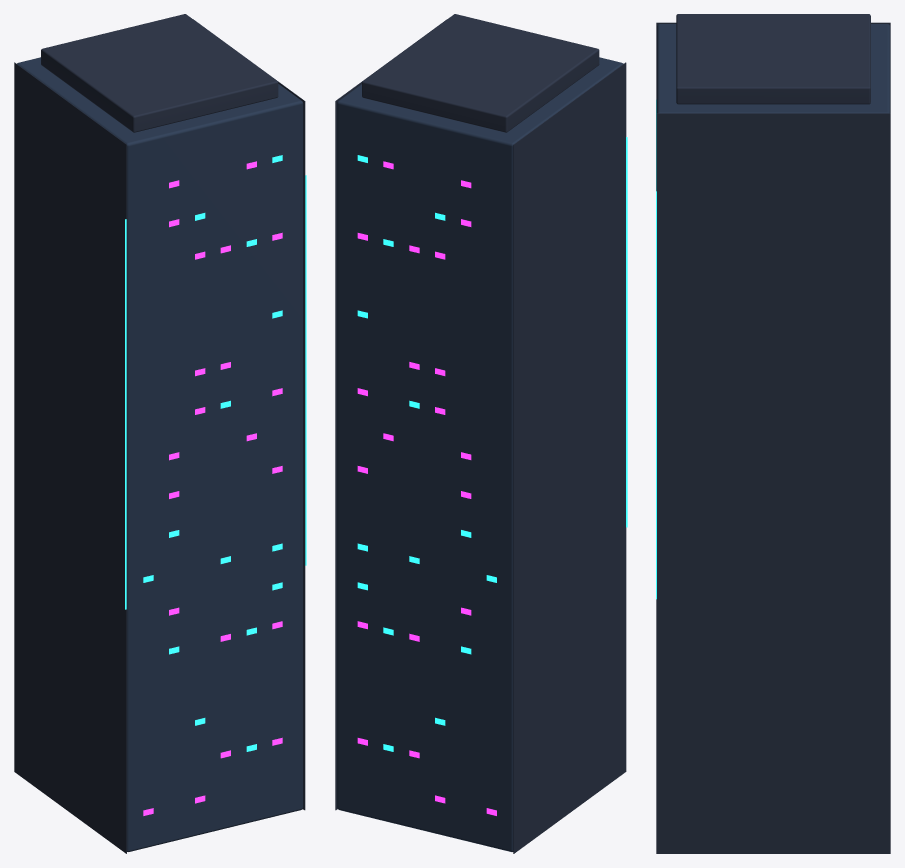
Rendered from Module_TowerA.fbx.
3 views of the same model, side by side, from view 1: azimuth 30°, elevation 25°; view 2: azimuth 150°, elevation 25°; view 3: azimuth 270°, elevation 25° (orthographic). The views are drawn at different scales.
Parts seen in each view (by area): view 1: Tower structure, Facade seam, Crown, Facade seam.001, Window array.001, Window array, Vertical neon, Vertical neon.001; view 2: Tower structure, Facade seam, Crown, Facade seam.001, Window array.001, Window array, Vertical neon; view 3: Facade seam.001, Crown, Tower structure.
Part boxes in pixels (x1,y1,x2,y2): Tower structure: (17, 57, 303, 851); Facade seam: (14, 62, 126, 853); Crown: (41, 14, 278, 132); Facade seam.001: (193, 19, 305, 810); Window array.001: (143, 161, 282, 815); Window array: (143, 155, 282, 751); Vertical neon: (125, 219, 126, 609); Vertical neon.001: (305, 175, 306, 565); Tower structure: (337, 57, 623, 851); Facade seam: (513, 62, 626, 853); Crown: (362, 14, 599, 132); Facade seam.001: (335, 19, 446, 810); Window array.001: (357, 161, 496, 815); Window array: (357, 155, 496, 751); Vertical neon: (626, 137, 627, 527); Facade seam.001: (656, 113, 890, 853); Crown: (676, 14, 870, 104); Tower structure: (657, 24, 890, 113).
Bounding box in the file's own units: 11.25 × 43 × 12.08.
